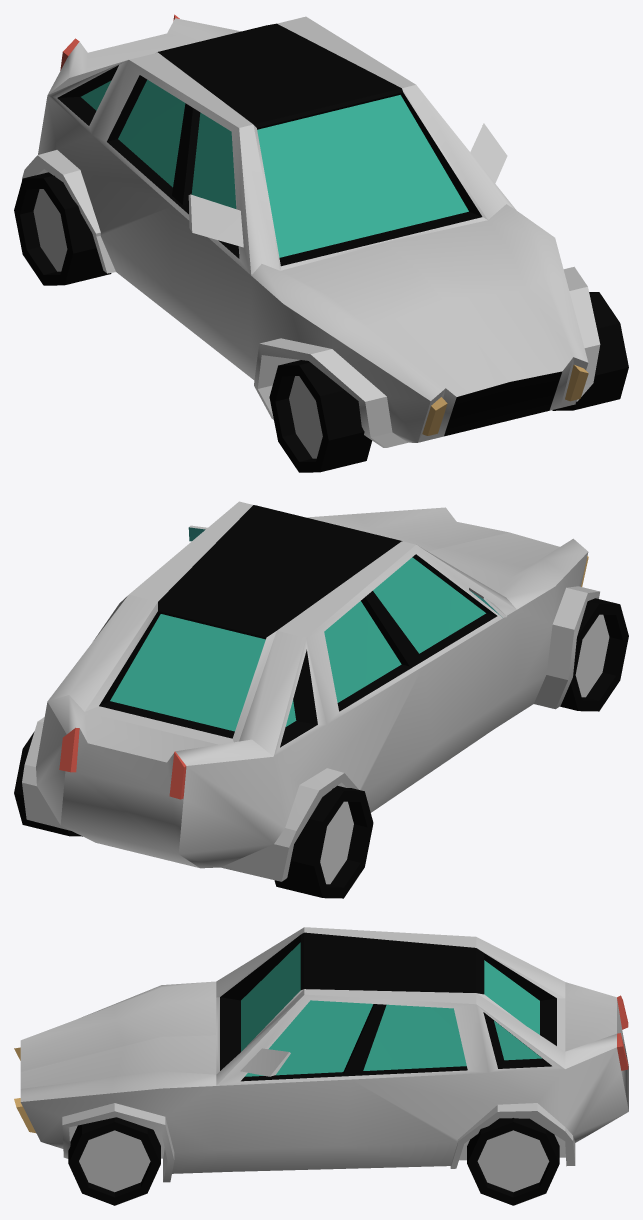
File: Volta.fbx
The picture shows the model from 3 angles, top to bottom: view 1: azimuth 30°, elevation 25°; view 2: azimuth 150°, elevation 25°; view 3: azimuth 270°, elevation 25°; orthographic projection. The views are drawn at different scales.
Parts seen in each view (by area): view 1: Volta; view 2: Volta; view 3: Volta.
Part boxes in pixels (box(x1,y1,x2,y2)): Volta: box(14, 14, 628, 472); Volta: box(14, 501, 628, 898); Volta: box(14, 927, 628, 1205).
Size of the model in its own units: 101 by 73.33 by 218.
